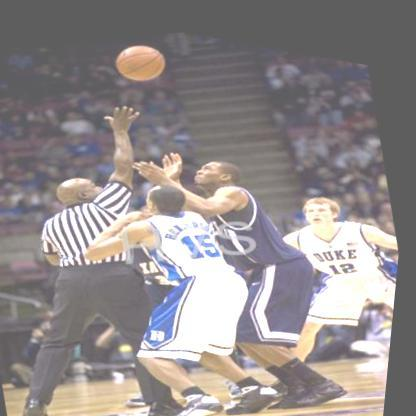basketball: (107, 28, 173, 87)
